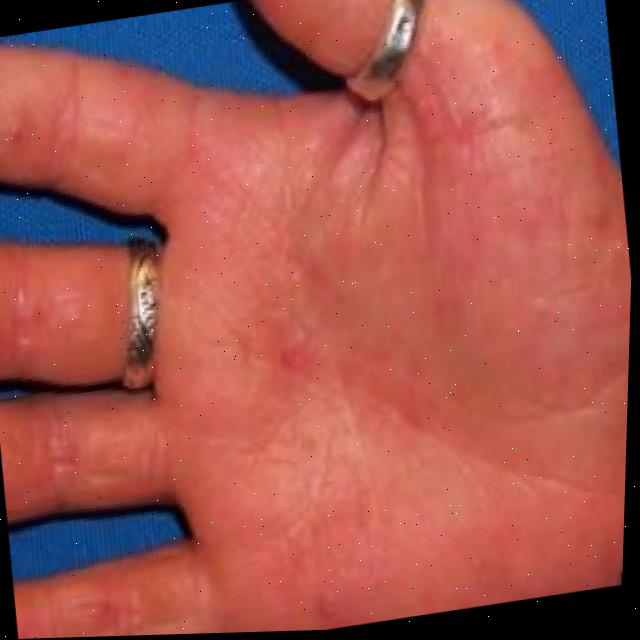Eczema: (166, 267, 445, 615)
